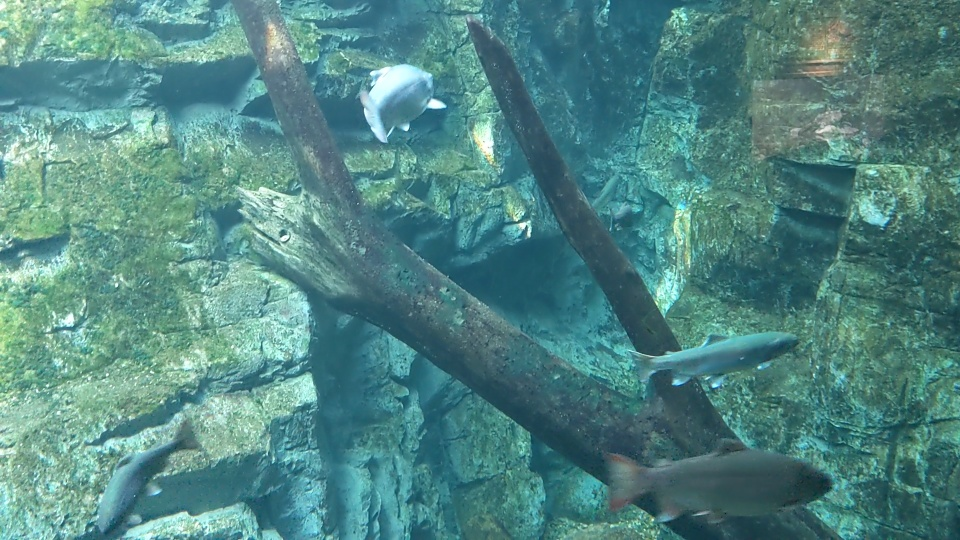Fish: (599, 442, 835, 523), (97, 421, 204, 540), (628, 318, 793, 390), (358, 60, 443, 141), (590, 168, 622, 214), (609, 204, 639, 229)
